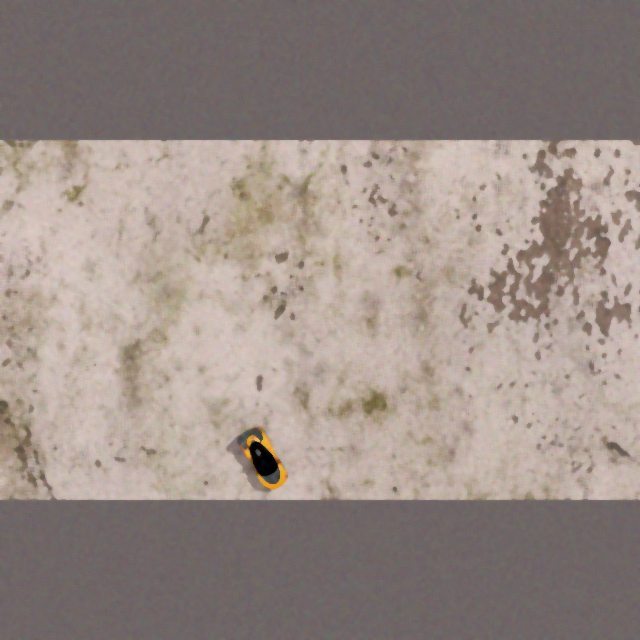car: (233, 422, 293, 498)
